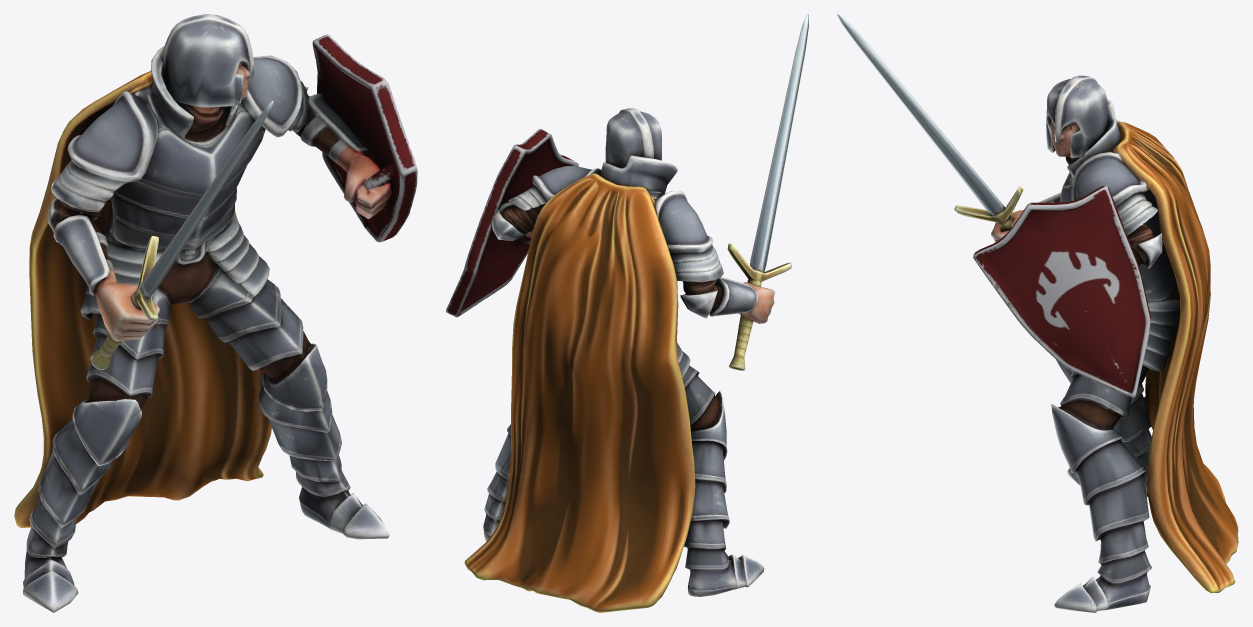
The model's file is Fighter - Human (Lords Alliance).glb.
The picture shows the model from 3 angles, left to right: view 1: azimuth 30°, elevation 25°; view 2: azimuth 150°, elevation 25°; view 3: azimuth 270°, elevation 25°; orthographic projection. The views are drawn at different scales.
Visible parts, largest first — view 1: body_low.001, shield_low.001, head_low.001, sword_low.001; view 2: body_low.001, shield_low.001, sword_low.001, head_low.001; view 3: body_low.001, shield_low.001, sword_low.001, head_low.001.
Boxes of the visible parts, <box> form: body_low.001: <box>14,46,391,612</box>; shield_low.001: <box>312,34,417,242</box>; head_low.001: <box>161,14,254,107</box>; sword_low.001: <box>90,100,273,369</box>; body_low.001: <box>464,154,774,612</box>; shield_low.001: <box>446,128,578,317</box>; sword_low.001: <box>727,14,808,370</box>; head_low.001: <box>605,108,661,167</box>; body_low.001: <box>991,98,1238,612</box>; shield_low.001: <box>973,185,1150,397</box>; sword_low.001: <box>837,14,1023,231</box>; head_low.001: <box>1046,75,1107,157</box>.
Bounding box in the file's own units: 4.22 × 6.53 × 4.72.
1 material, 1 textured.
